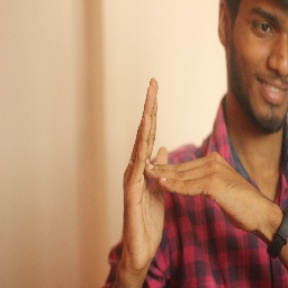Z: (110, 74, 266, 265)
